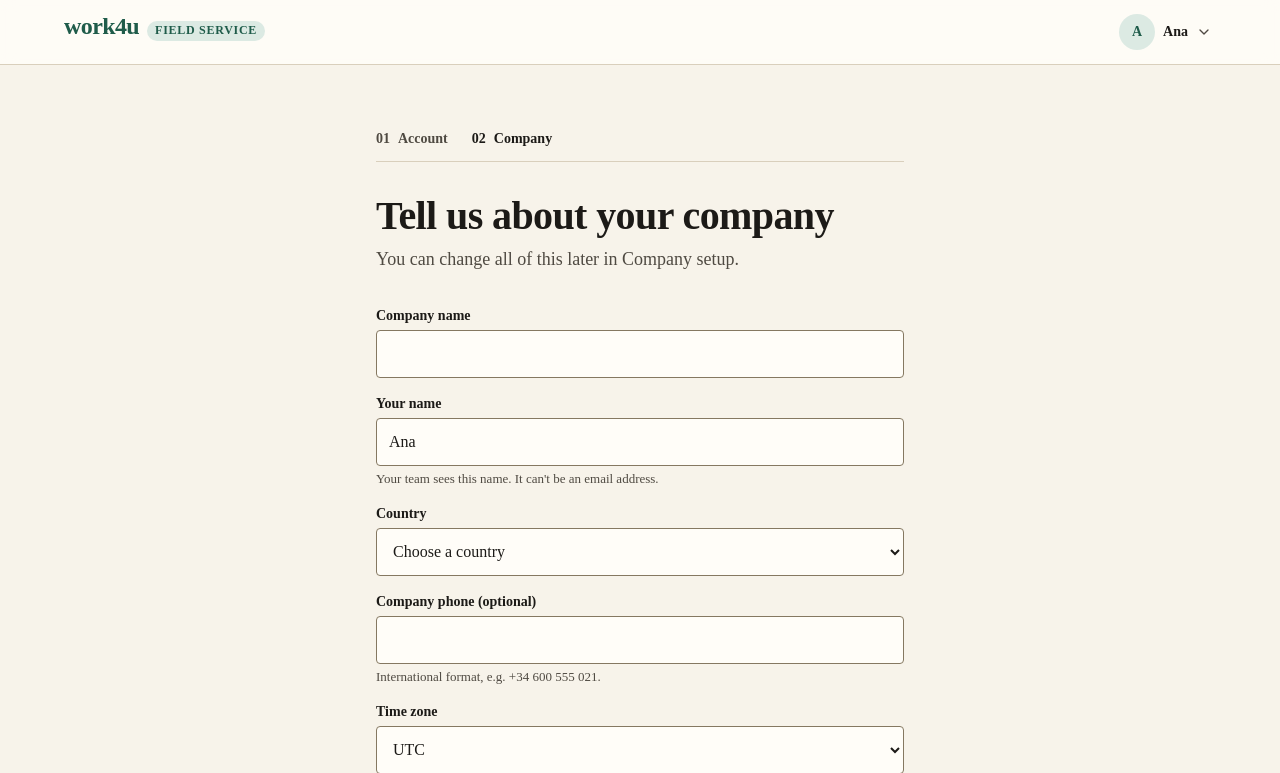
Scenario: company start › maps the API's 400 fields.adminDisplayName to the name field
Type "Costa" into the field labelled "Company name" at (640,354), box [376, 330, 904, 378]
(page scrolled)
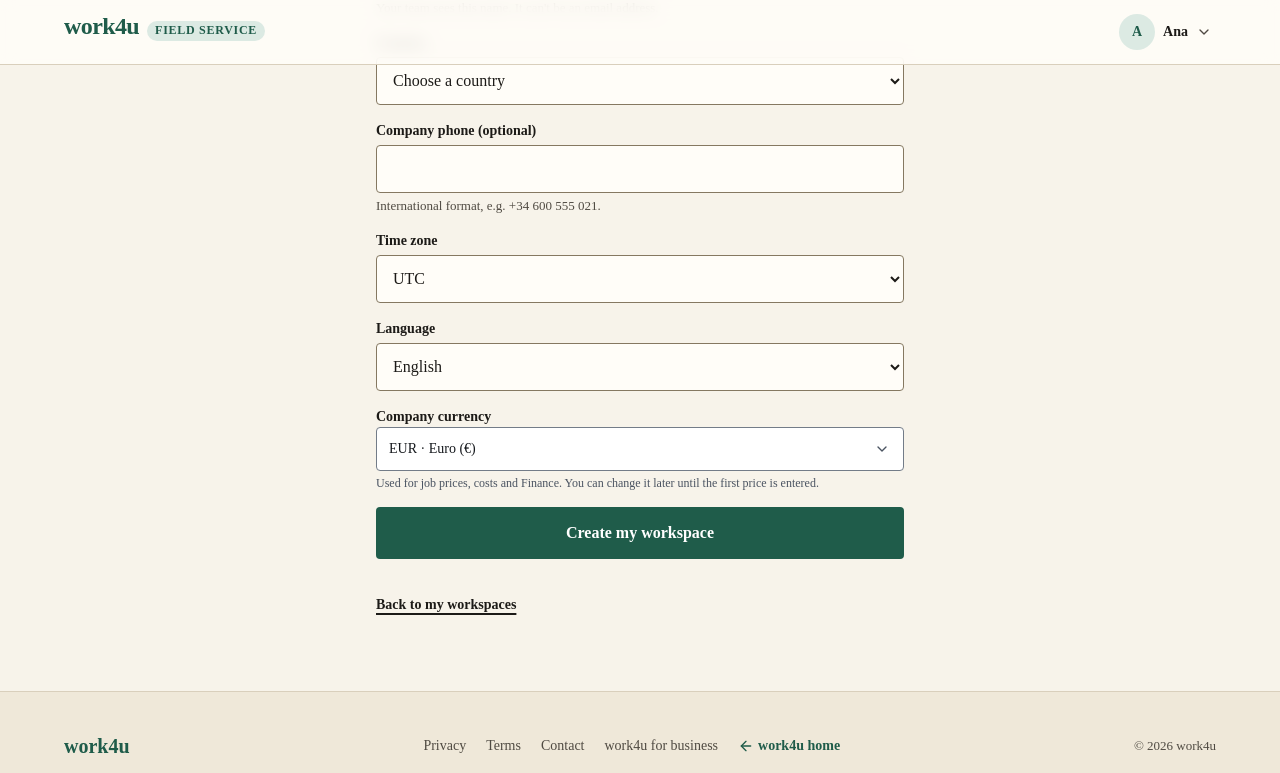
Click the button "Create my workspace" at (640,533), box [376, 507, 904, 559]
(page scrolled)
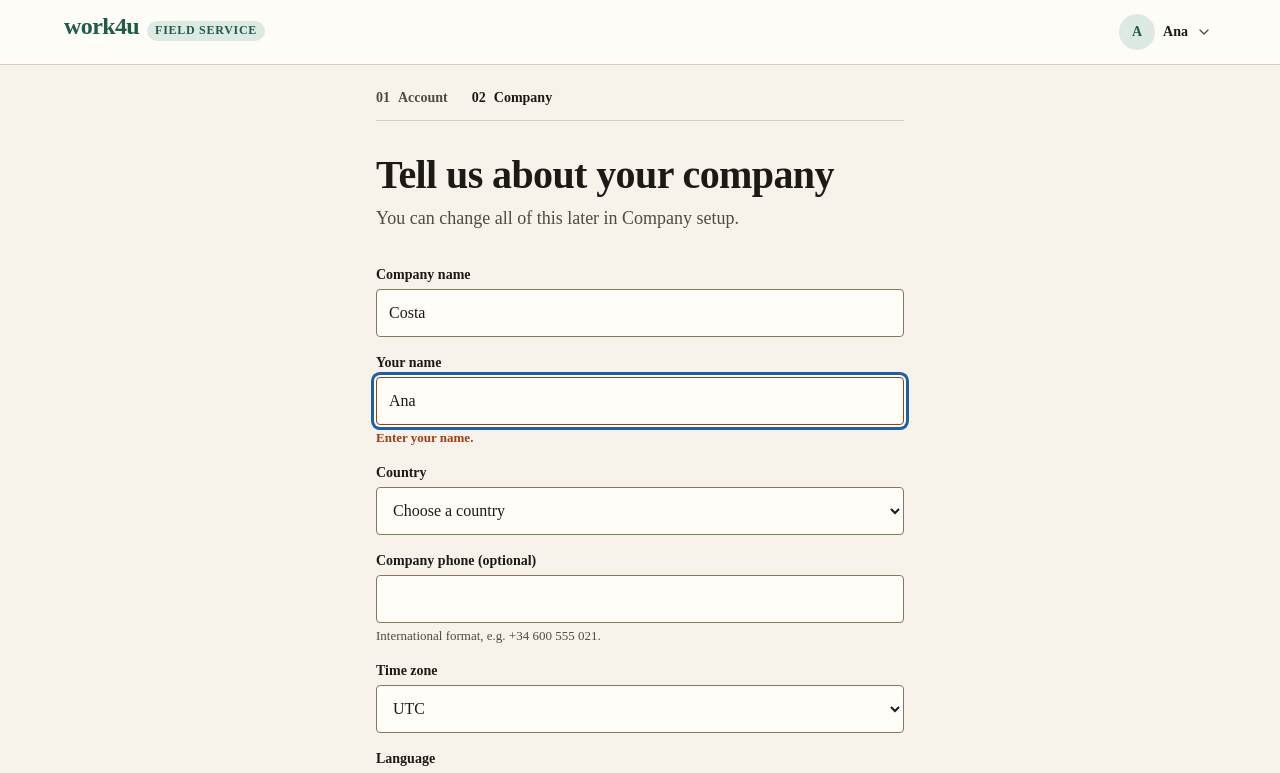
Now the text "Enter your name." is shown, box [376, 430, 473, 445]
